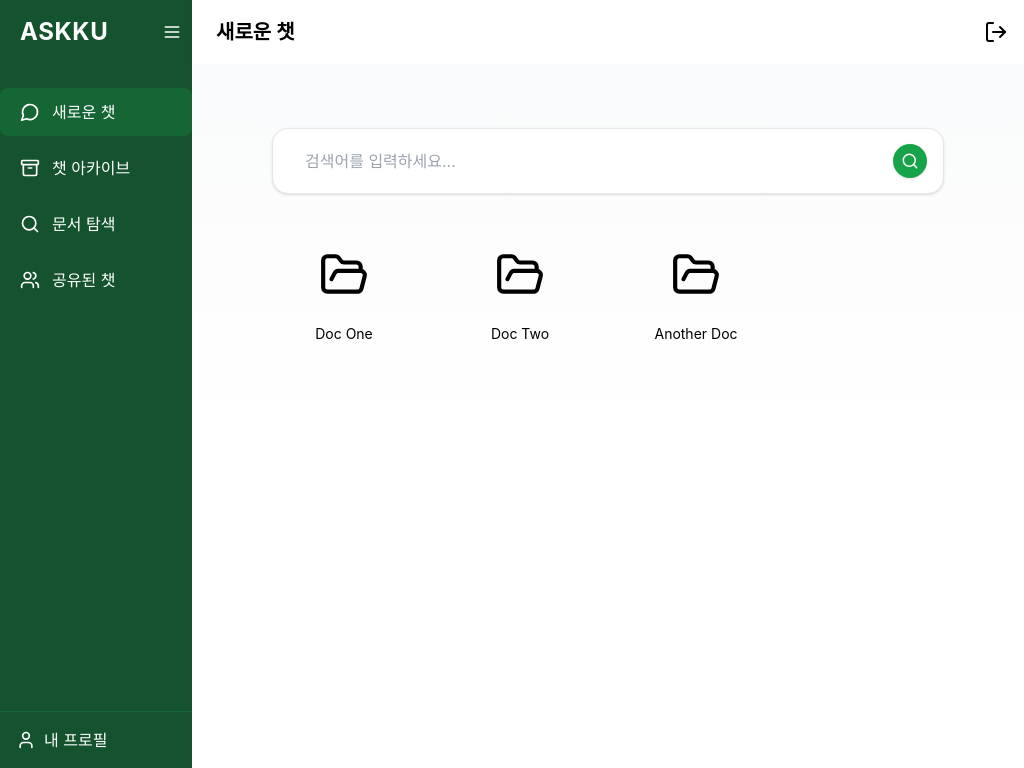
Test: DocumentPage › opens and closes modal on document click
Step 1. Click the text "Doc One" → click(344, 334), box [315,324,373,344]
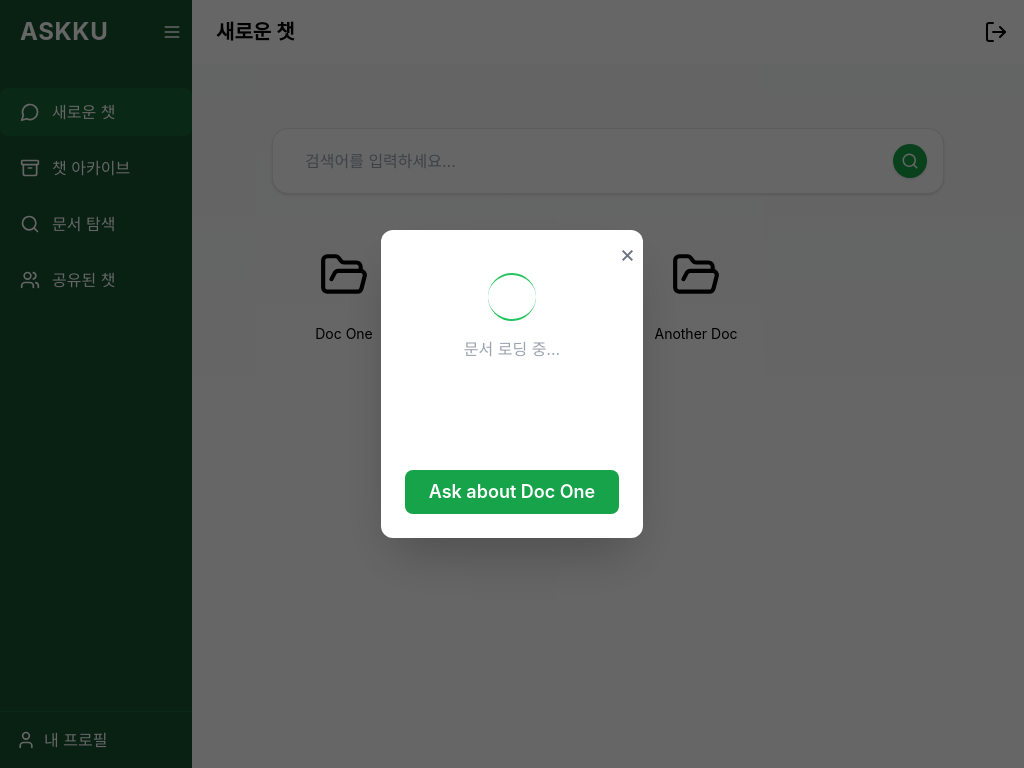
Now the button "Ask about Doc One" is shown, box [405,470,619,514]
Close modal
Step 2. Click the button named "Close" → click(627, 254), box [619,238,635,270]
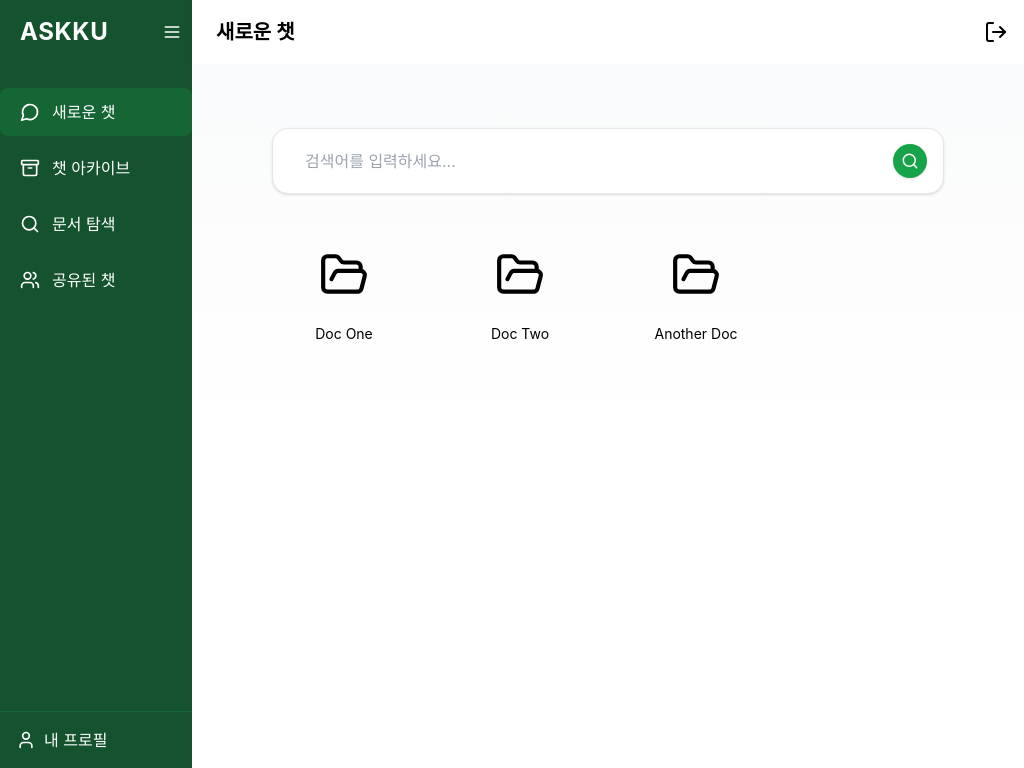
Now the button "Ask about Doc One" is gone
